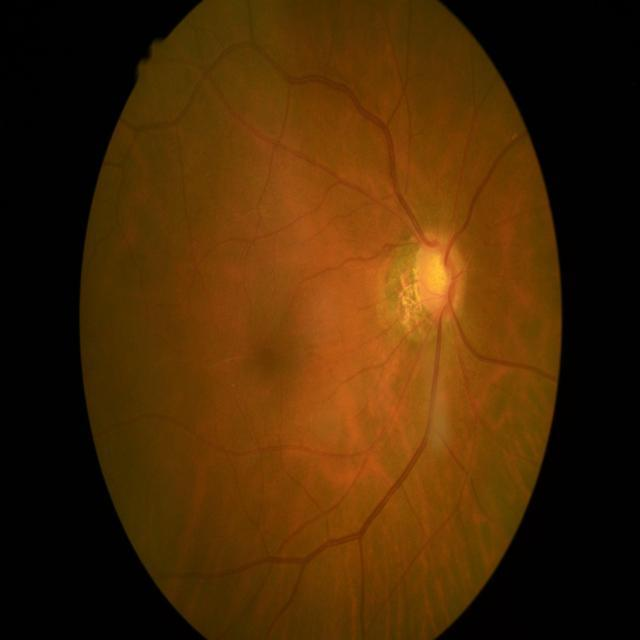cup: (421, 248, 454, 314)
disk: (412, 232, 466, 327)
